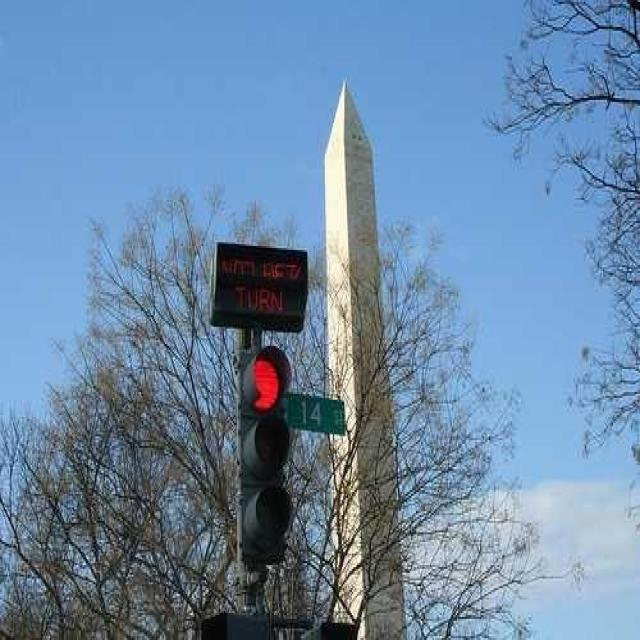Traffic Light -Red-: (234, 338, 300, 569)
